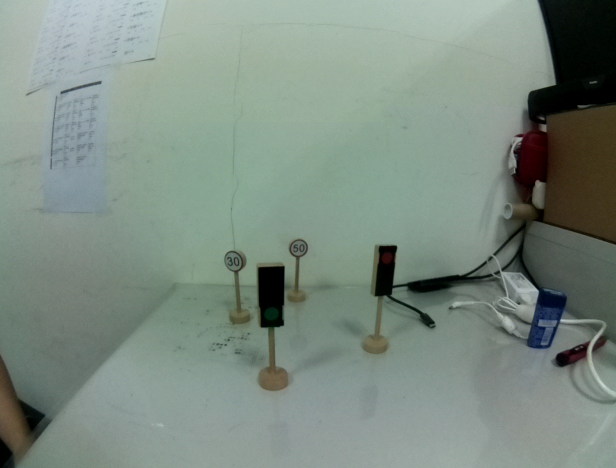Green: (253, 264, 287, 332)
Red: (365, 243, 402, 299)
Speed30: (222, 248, 247, 274)
Speed50: (288, 234, 312, 259)
